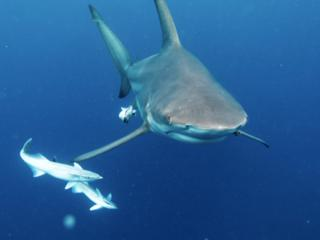Shark -Selachimorpha-: (69, 0, 269, 163)
